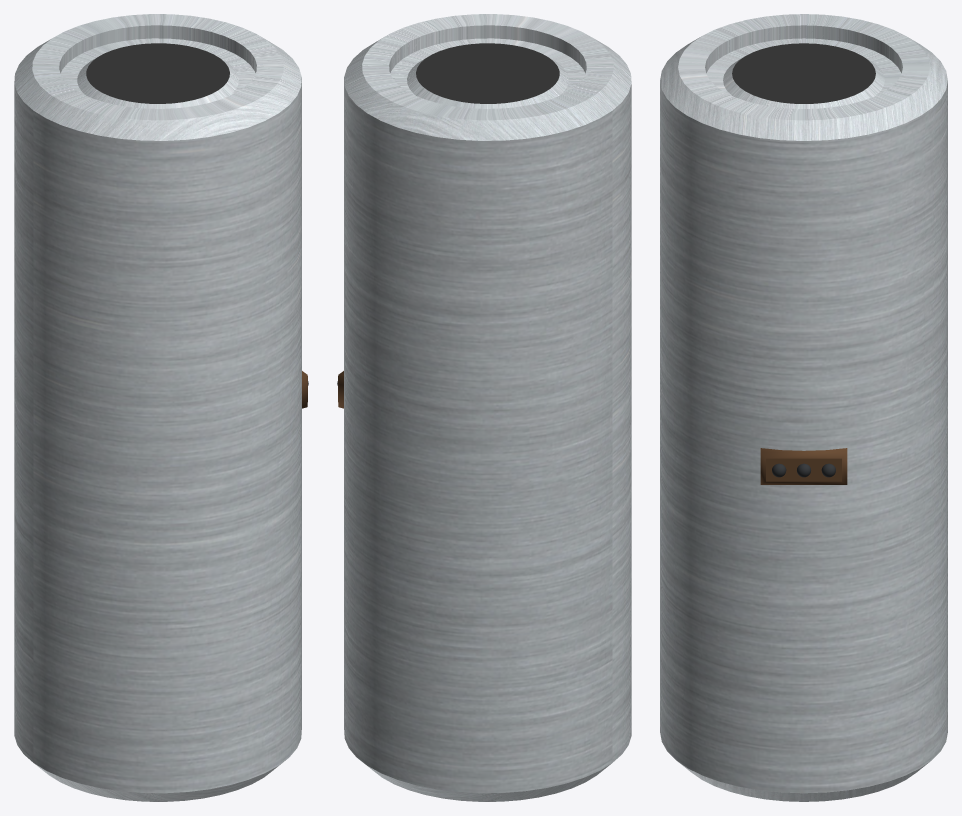
File: bha-1.dae
The picture shows the model from 3 angles, left to right: view 1: azimuth 30°, elevation 25°; view 2: azimuth 150°, elevation 25°; view 3: azimuth 270°, elevation 25°; orthographic projection.
Visible parts, largest first — view 1: Cylinder; view 2: Cylinder; view 3: Cylinder, Cube.
Part boxes in pixels (x1,y1,x2,y2): Cylinder: (14, 14, 301, 801); Cylinder: (344, 14, 631, 801); Cylinder: (660, 14, 947, 801); Cube: (760, 448, 847, 484).
Bounding box in the file's own units: 84 × 209 × 80.
Materials: 4 (1 with a texture image).
